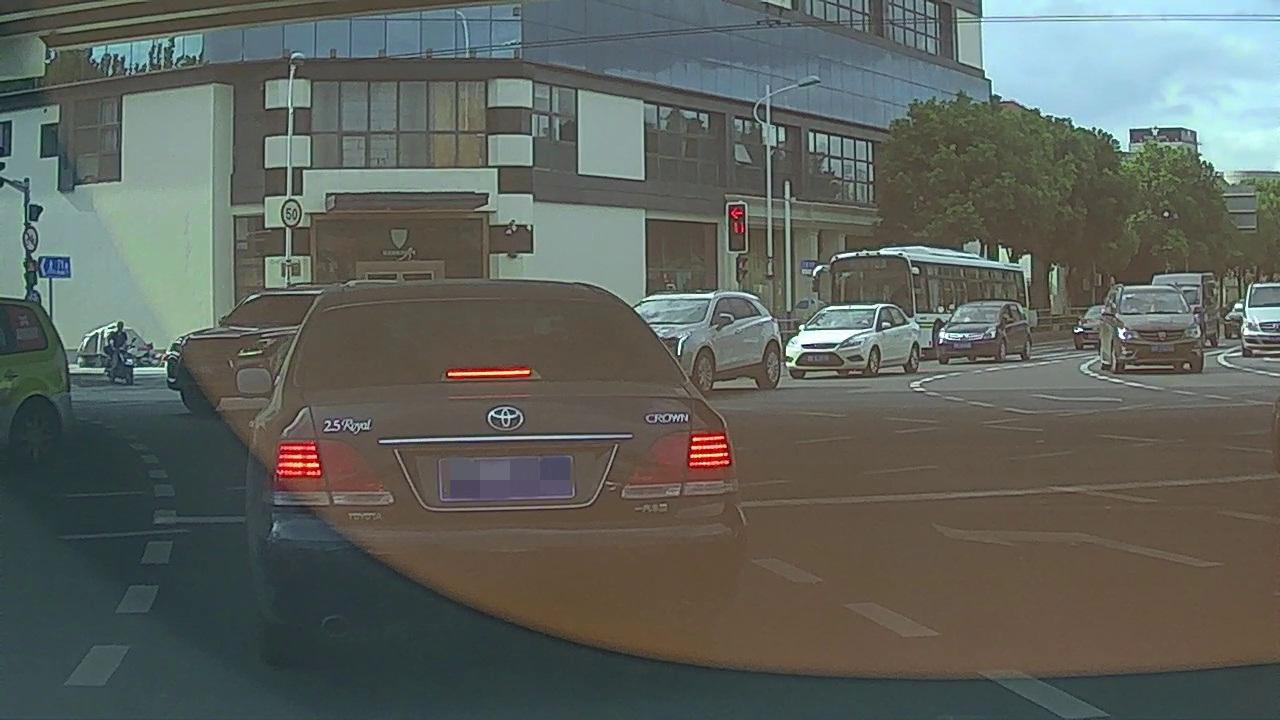traffic_light: (726, 205, 746, 251)
